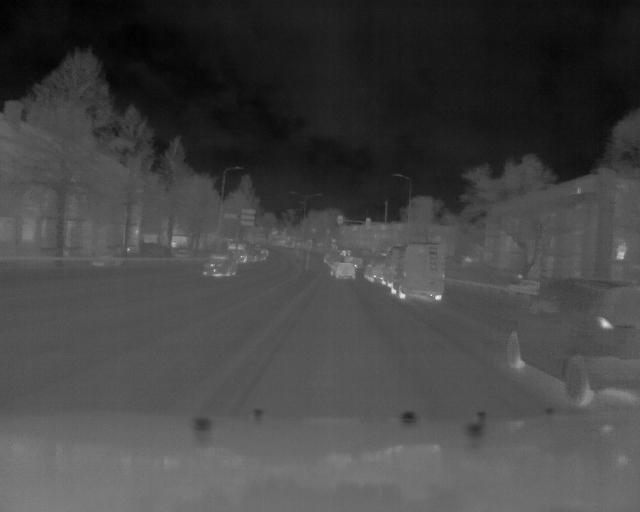car: (505, 270, 638, 402), (409, 251, 448, 305), (199, 251, 243, 277), (365, 262, 395, 288), (230, 240, 266, 259), (332, 260, 354, 278)
